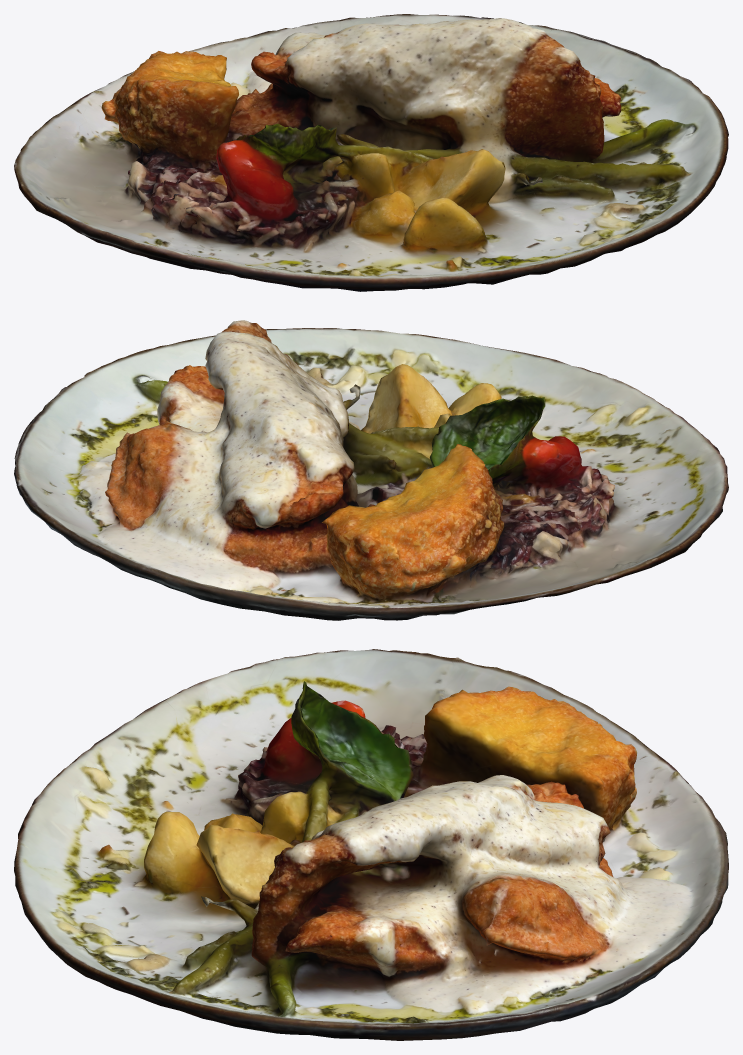
Rendered from AR-Code-1761838630115.glb.
3 views of the same model, one above another, from view 1: azimuth 30°, elevation 25°; view 2: azimuth 150°, elevation 25°; view 3: azimuth 270°, elevation 25° (orthographic). The views are drawn at different scales.
Parts seen in each view (by area): view 1: ObjectCapture; view 2: ObjectCapture; view 3: ObjectCapture.
Part boxes in pixels (<box>): ObjectCapture: <box>14,14,728,291</box>; ObjectCapture: <box>14,320,728,620</box>; ObjectCapture: <box>14,649,728,1040</box>.
Bounding box in the file's own units: 0.2683 × 0.0583 × 0.2286.
1 material, 1 textured.
